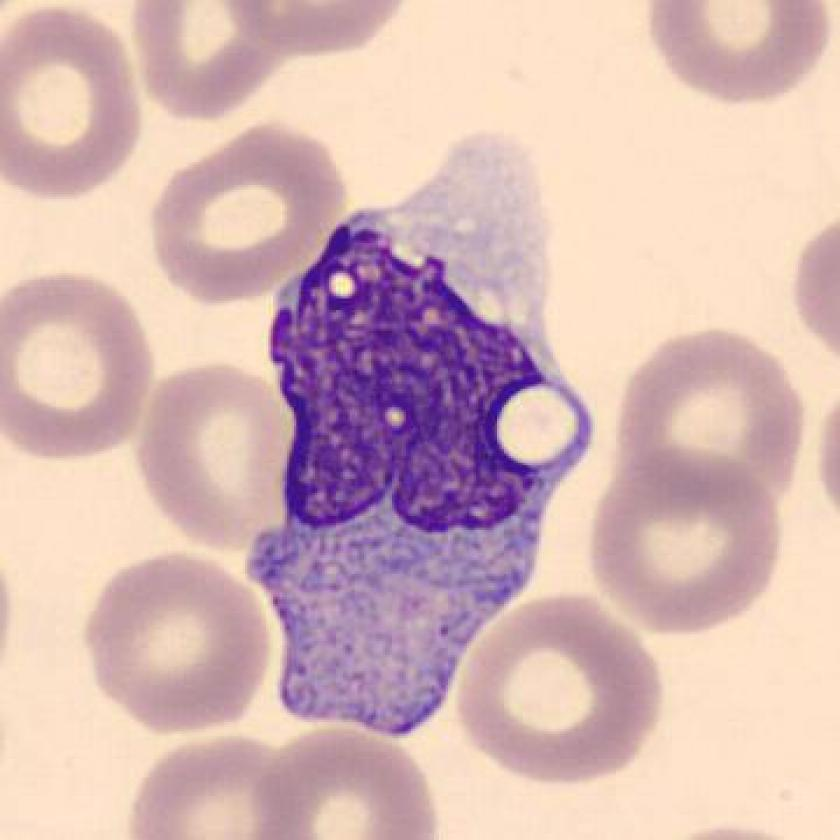monocyte: (227, 124, 608, 751)
